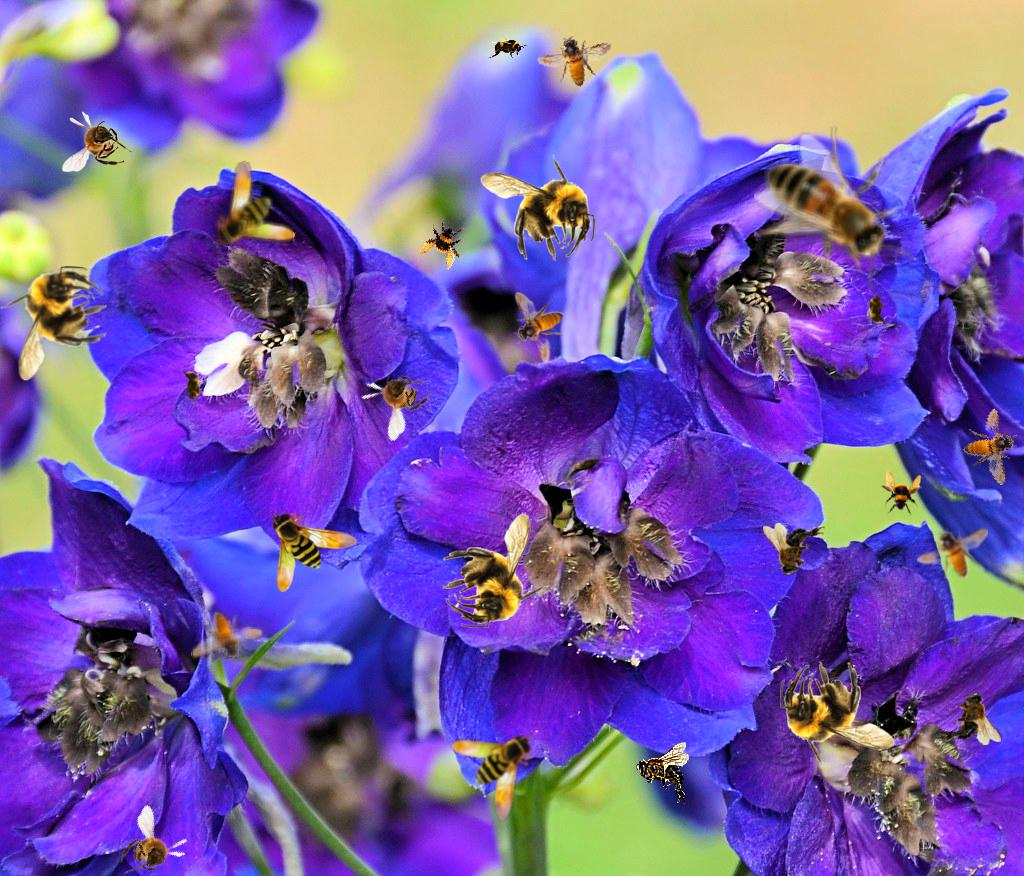Bee: (754, 125, 916, 292), (442, 513, 549, 628), (0, 266, 107, 381), (780, 661, 895, 768), (480, 154, 595, 261), (351, 349, 444, 443), (213, 160, 295, 248), (452, 733, 534, 821), (270, 510, 358, 592), (107, 804, 198, 876), (956, 403, 1024, 486), (533, 28, 613, 93), (190, 608, 266, 665), (62, 111, 132, 172), (415, 214, 475, 274), (917, 528, 988, 578), (514, 292, 564, 363), (636, 742, 689, 804), (763, 523, 825, 576), (939, 692, 1001, 745), (876, 469, 924, 517), (866, 289, 888, 329), (488, 37, 528, 59), (181, 366, 203, 406)
